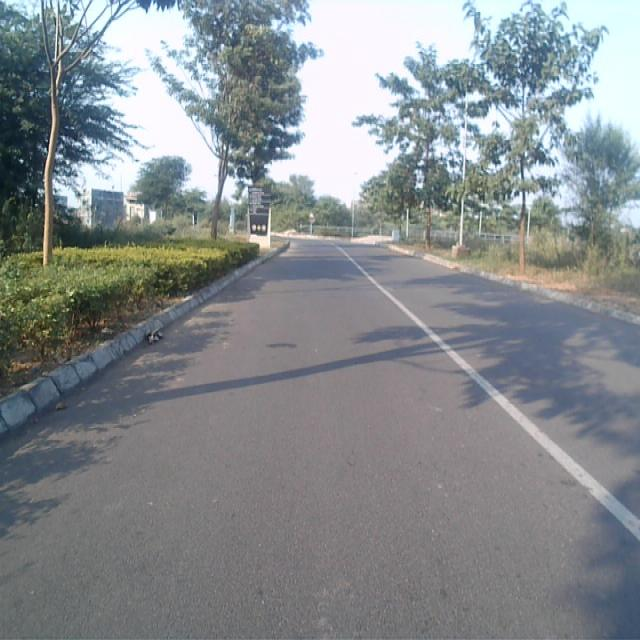lane: (0, 240, 640, 640)
